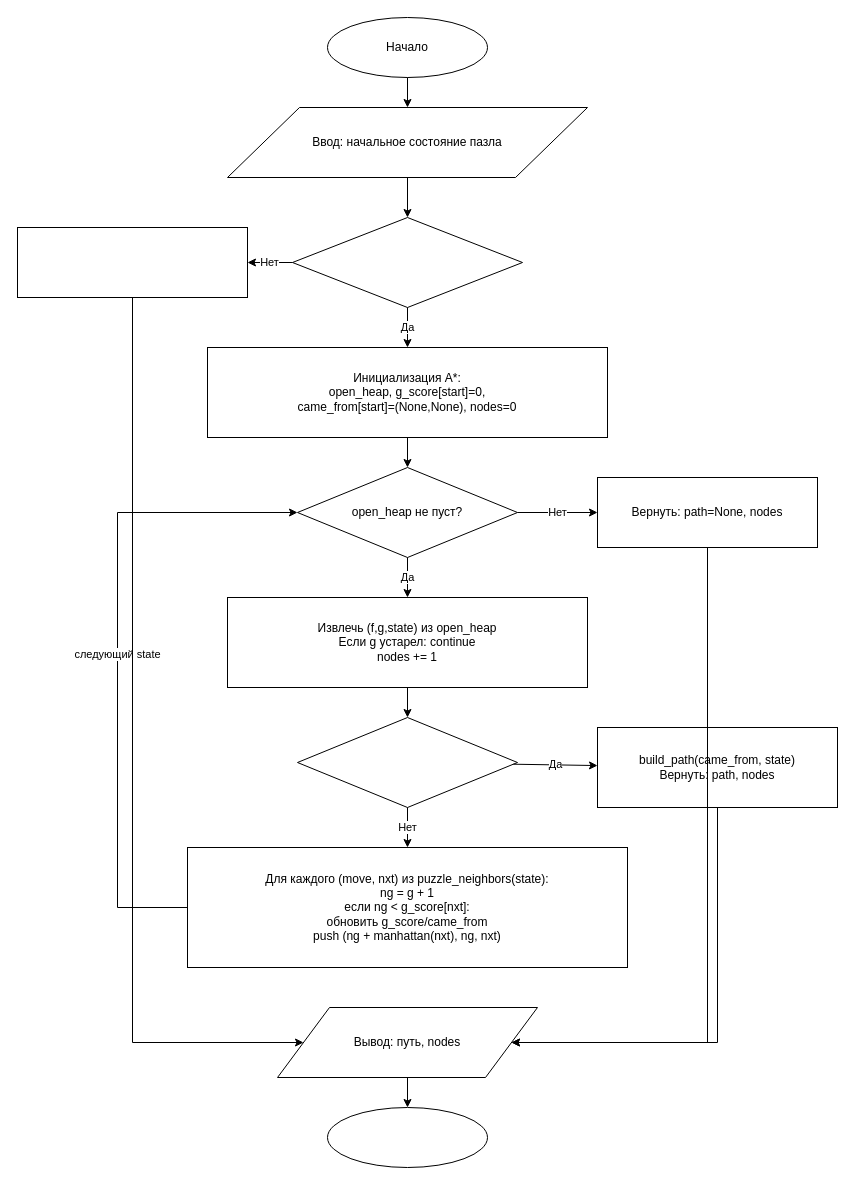
Image size: 855x1185. Some labels were removed from this diagram. Here are the shapes that lost their labels. From the top down, the centre of each, then its label:
(132,262): Нет решения (позиция неразрешима)
(407,262): is_solvable(start)?
(407,762): state == GOAL_STATE?
(407,1137): Конец
